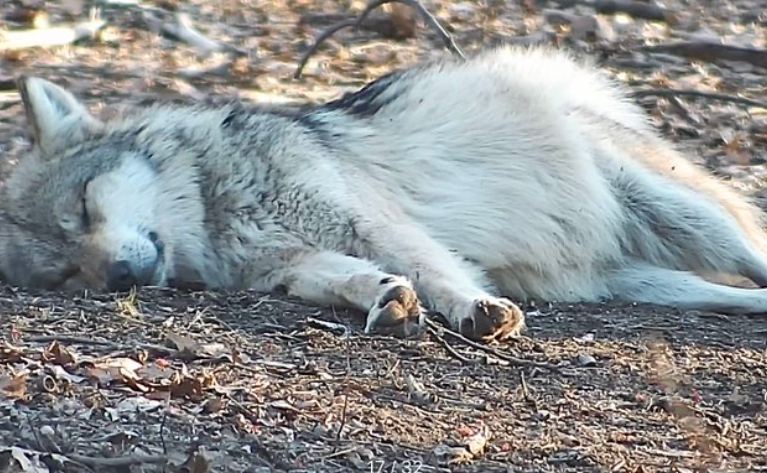Lobo: (6, 49, 728, 340)
